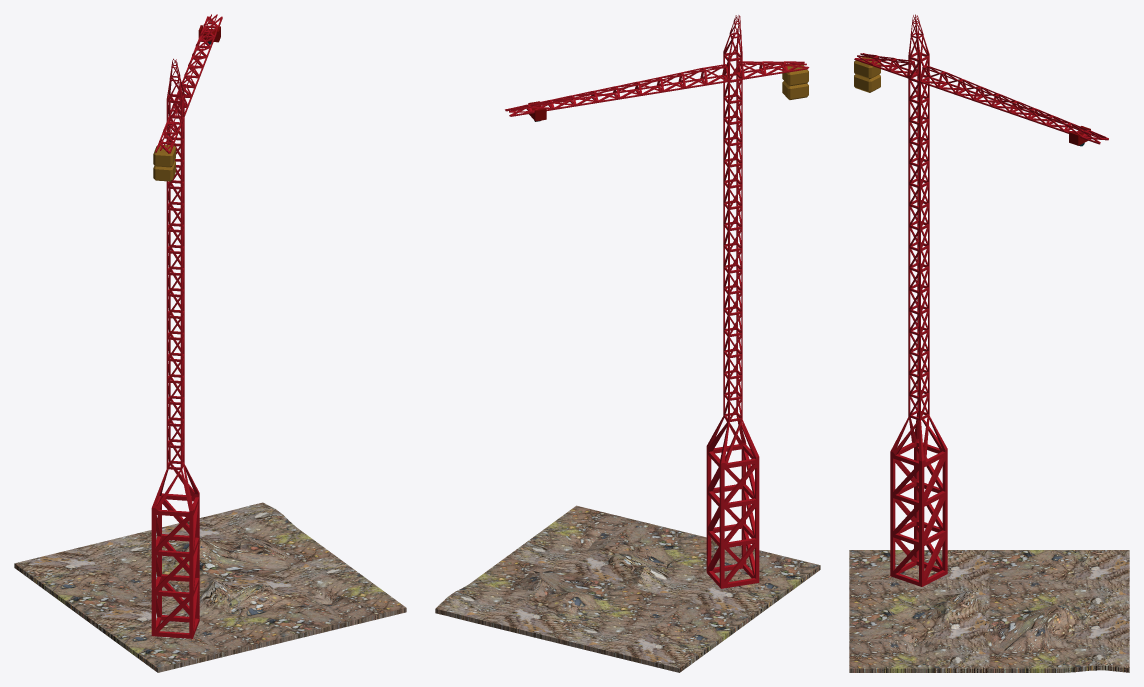
File: constructionsite.glb
The picture shows the model from 3 angles, left to right: view 1: azimuth 30°, elevation 25°; view 2: azimuth 150°, elevation 25°; view 3: azimuth 270°, elevation 25°; orthographic projection. The views are drawn at different scales.
Parts seen in each view (by area): view 1: stale, Building Crane (low poly); view 2: stale, Building Crane (low poly); view 3: stale, Building Crane (low poly).
Boxes of the visible parts, x1,y1,x2,y2 form: stale: [14, 502, 406, 672]; Building Crane (low poly): [151, 14, 222, 638]; stale: [435, 505, 820, 672]; Building Crane (low poly): [505, 15, 809, 588]; stale: [849, 550, 1129, 672]; Building Crane (low poly): [854, 14, 1108, 586].
Size of the model in its own units: 1 by 2.26 by 1.
2 materials, 2 textured.
